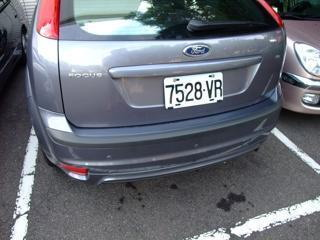plate: (161, 74, 224, 107)
